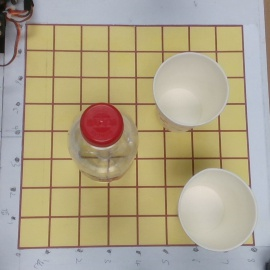bottle: (63, 103, 138, 187)
cup: (166, 166, 258, 253), (150, 52, 228, 136)
